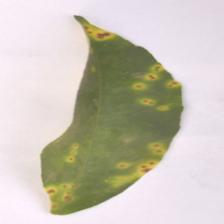canker: (74, 10, 194, 218)
